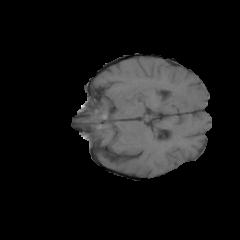glioma: (105, 85, 171, 112)
